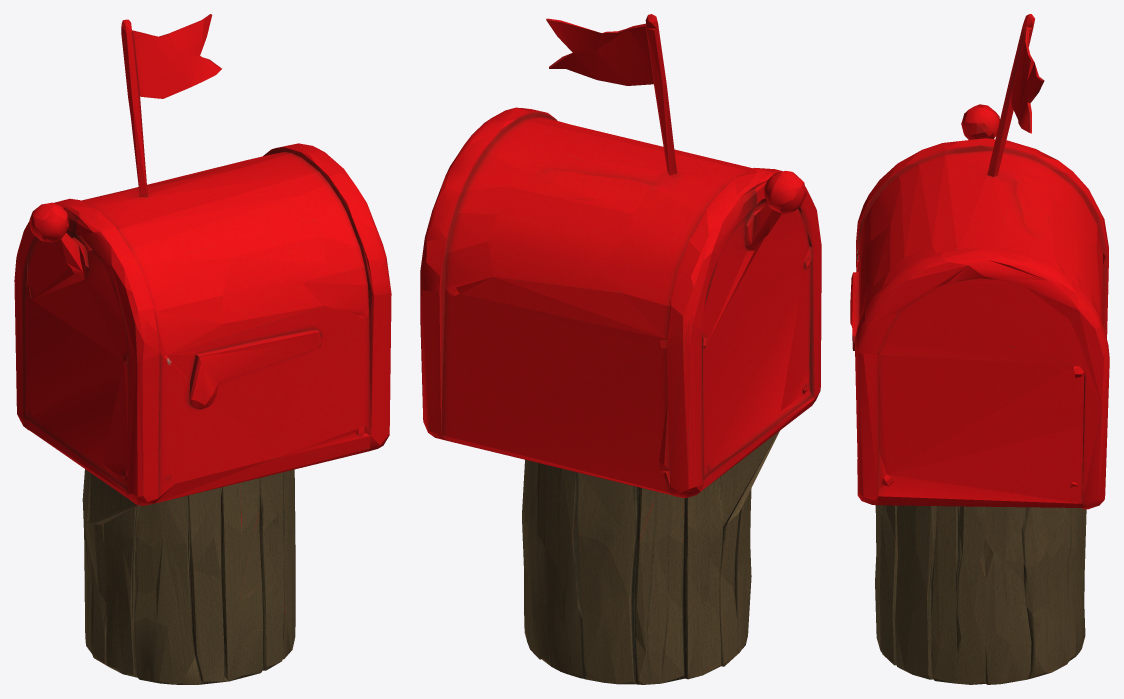
The model's file is mailbox.glb.
The picture shows the model from 3 angles, left to right: view 1: azimuth 30°, elevation 25°; view 2: azimuth 150°, elevation 25°; view 3: azimuth 270°, elevation 25°; orthographic projection. The views are drawn at different scales.
Visible parts, largest first — view 1: geometry_0; view 2: geometry_0; view 3: geometry_0.
Part boxes in pixels (<box>): geometry_0: <box>14,14,391,684</box>; geometry_0: <box>420,14,821,684</box>; geometry_0: <box>850,14,1109,684</box>.
Bounding box in the file's own units: 0.8687 × 1.7 × 0.6569.
Materials: 1 (1 with a texture image).
